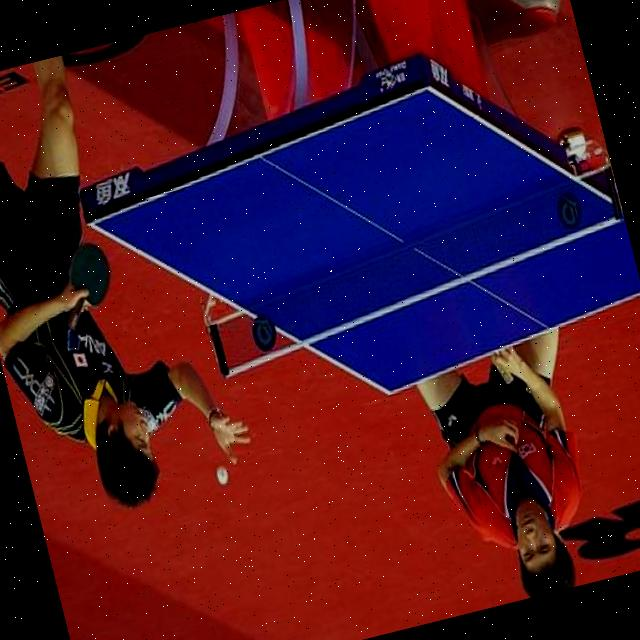ping-pong-ball: (212, 463, 232, 487)
